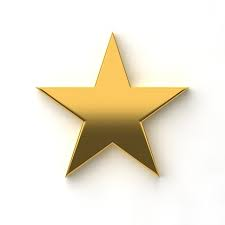star: (34, 28, 196, 180)
